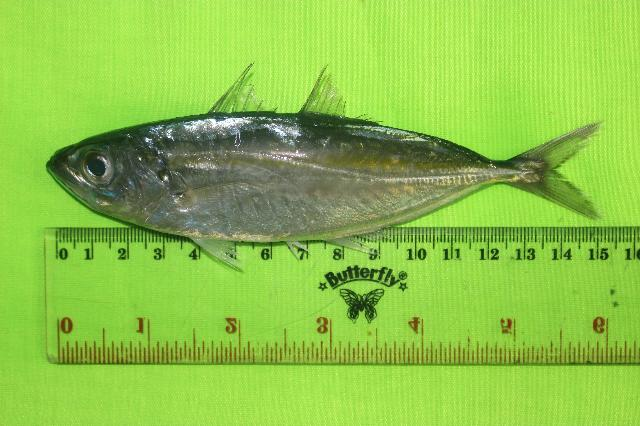Mulut: (40, 147, 90, 208)
Sirip Anal: (284, 213, 406, 273)
Sirip Dada: (180, 174, 258, 220)
Sirip Ekor: (526, 106, 612, 232)
Sirip Perut: (186, 224, 258, 283)
Sirip Punggung: (204, 56, 376, 132)
